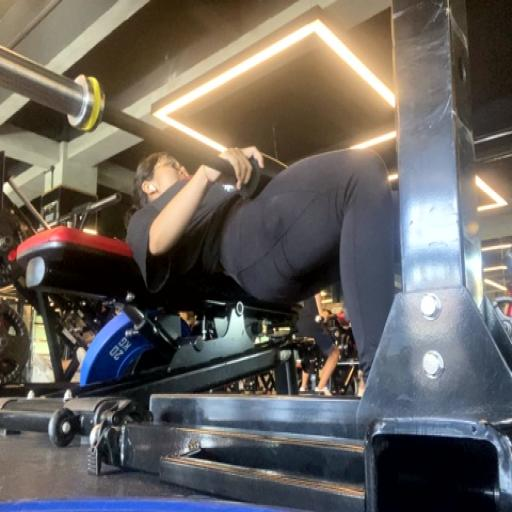exercise: (124, 142, 397, 394)
